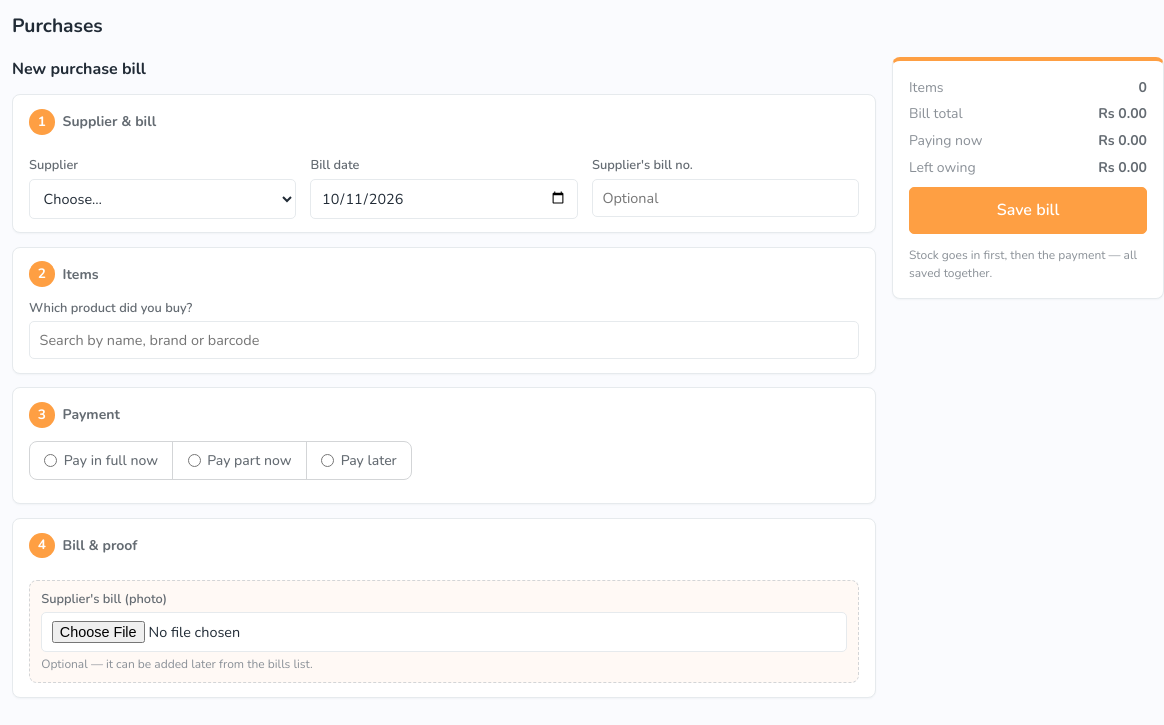
Test case: buying a product that does not exist yet › does not offer creation while the search still matches something
Type "Wireless" into the field labelled "Which product did you buy?" at (444,340), box [29,321,859,359]
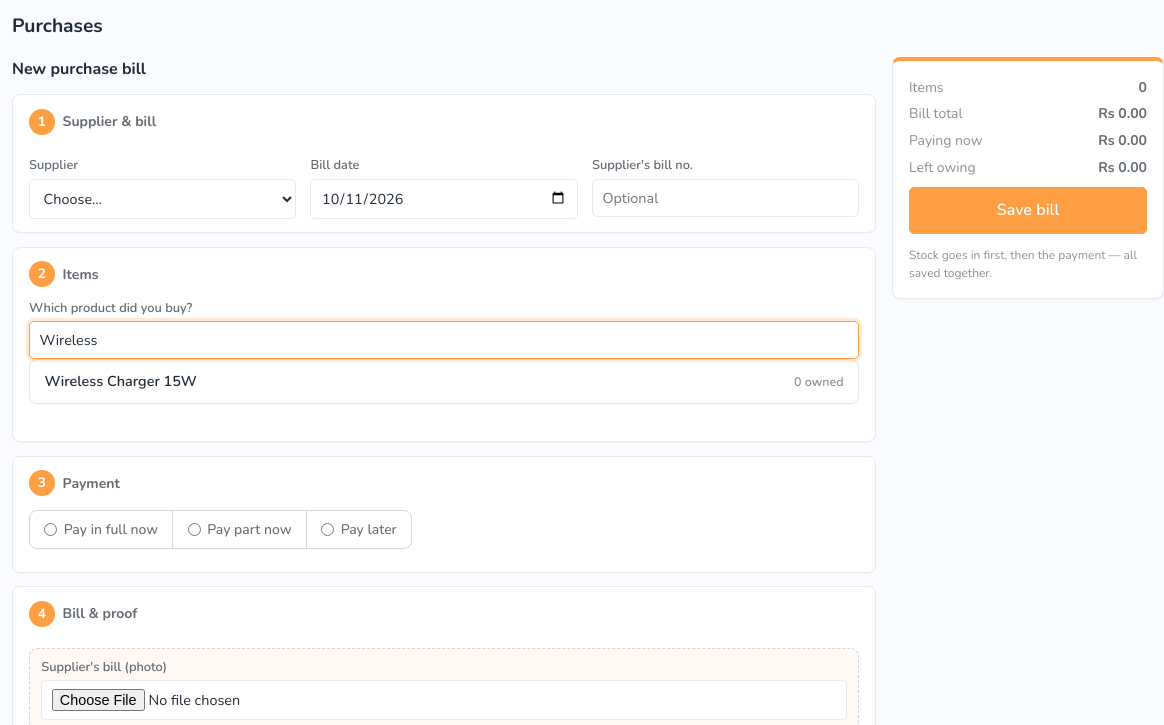
Expected: the button "Wireless Charger 15W 0 owned" is shown, [30,360,858,403]
